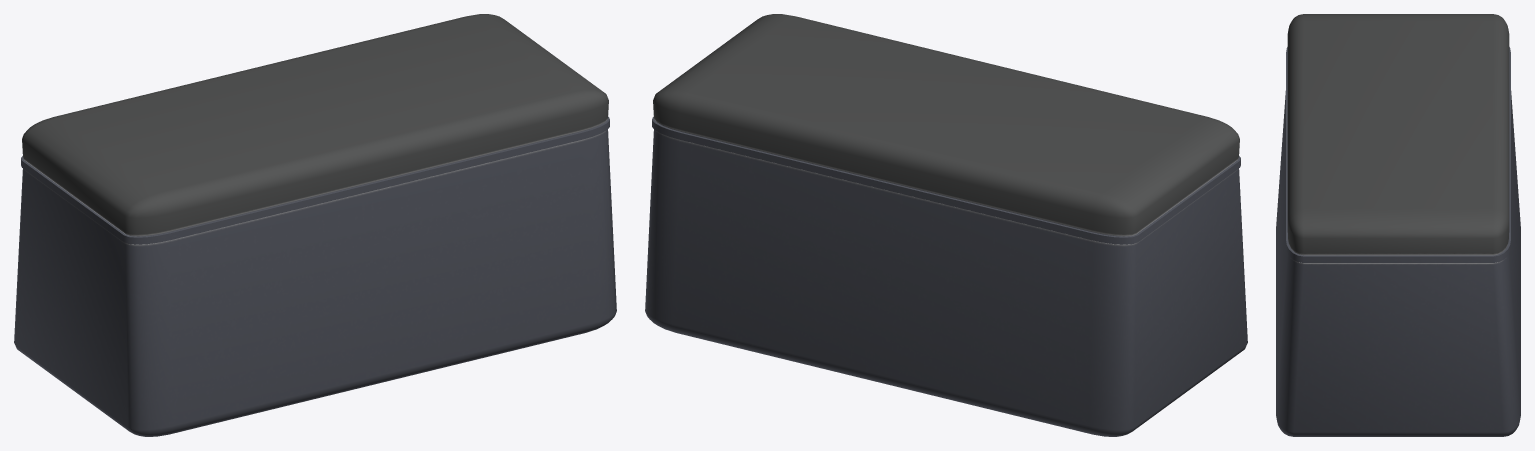
File: Chair3.fbx
3 views of the same model, side by side, from view 1: azimuth 30°, elevation 25°; view 2: azimuth 150°, elevation 25°; view 3: azimuth 270°, elevation 25° (orthographic). The views are drawn at different scales.
Visible parts, largest first — view 1: Chair3; view 2: Chair3; view 3: Chair3.
Part boxes in pixels (left/top/right/bottom): Chair3: left=14, top=14, right=616, bottom=436; Chair3: left=645, top=14, right=1247, bottom=436; Chair3: left=1276, top=14, right=1520, bottom=436.
Size of the model in its own units: 462 by 214 by 216.
